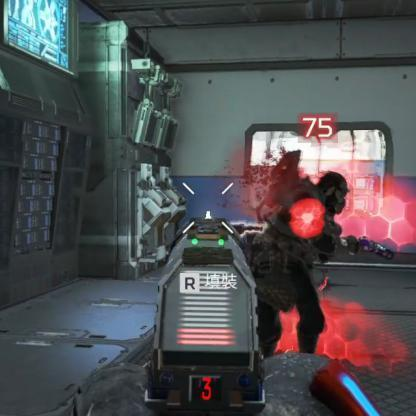avatar: (248, 168, 349, 358)
object: (289, 196, 326, 238)
